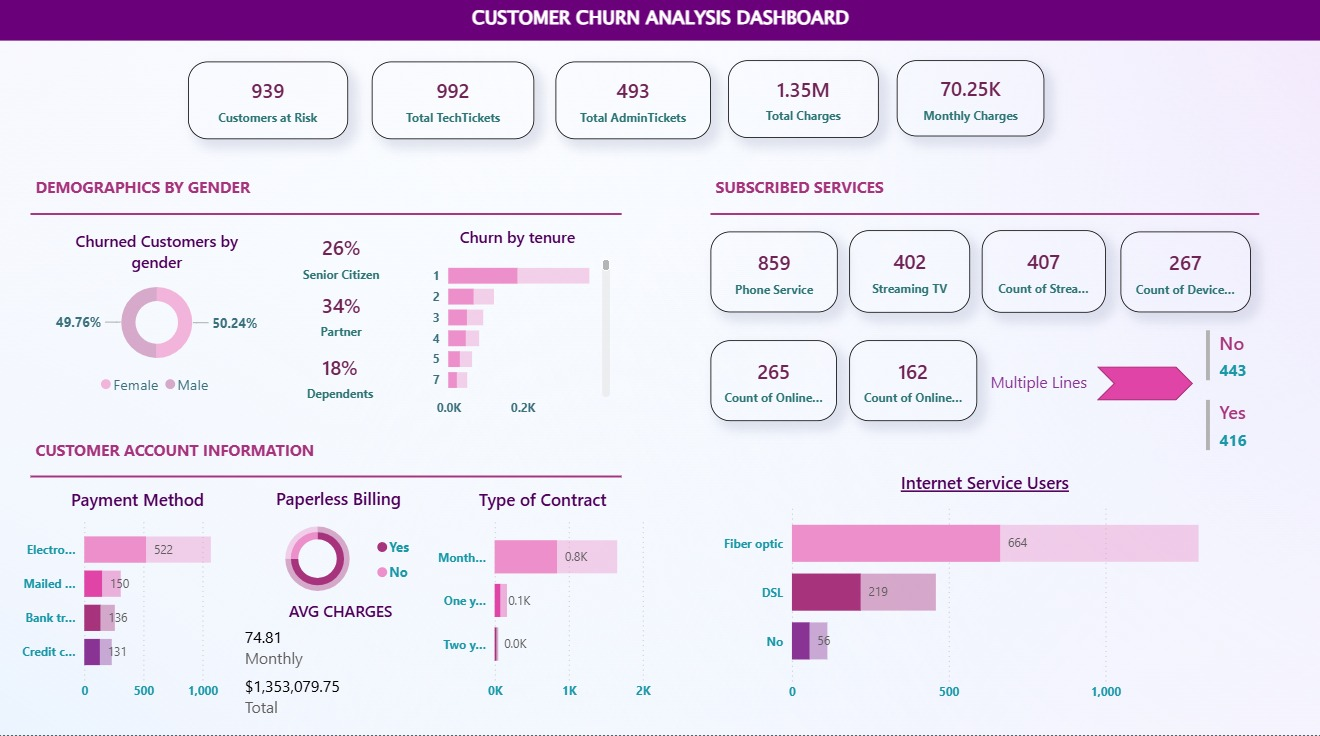

The dashboard page shown, as its layout file describes it:
{"tool":"powerbi","page":{"name":"Page 1","canvas":[1350,750],"ordinal":0},"visuals":[{"type":"card","fields":{"Values":["CountNonNull(01 Churn-Dataset.customerID)"]},"box":[193.3,63.9,162.8,79.1],"z":0},{"type":"textbox","box":[0,0,1350.2,42],"z":1000},{"type":"card","fields":{"Values":["Sum(01 Churn-Dataset.numTechTickets)"]},"box":[380.4,63.9,165.9,79.1],"z":2000},{"type":"card","fields":{"Values":["Sum(01 Churn-Dataset.numAdminTickets)"]},"box":[567.6,63.9,158.3,79.1],"z":3000},{"type":"card","fields":{"Values":["Sum(01 Churn-Dataset.TotalCharges)"]},"box":[744.1,62.4,153.7,79.1],"z":4000},{"type":"card","fields":{"Values":["Sum(01 Churn-Dataset.MonthlyCharges)"]},"box":[916,62.4,150.6,77.6],"z":5000},{"type":"donutChart","title":"Churned Customers by gender","fields":{"Category":["01 Churn-Dataset.gender"],"Y":["CountNonNull(01 Churn-Dataset.Churn)"]},"box":[48.4,222.9,226.7,196.2],"z":6000},{"type":"card","fields":{"Values":["Churn.Senior Citizen"]},"box":[275.1,219.1,149,87.9],"z":7000},{"type":"card","fields":{"Values":["Churn.% of dependents"]},"box":[273.9,340.1,149,89.2],"z":8000},{"type":"card","fields":{"Values":["Churn.% of partner"]},"box":[275.1,277.7,149,87.9],"z":9000},{"type":"textbox","box":[33.1,175.8,550.3,43.3],"z":10000},{"type":"clusteredBarChart","title":"Churn by tenure","fields":{"Category":["Churn.tenure"],"Y":["CountNonNull(Churn.Churn)"]},"box":[422.9,219.1,212.7,222.9],"z":11000},{"type":"shape","box":[33.1,184.7,602.5,68.8],"z":12000},{"type":"shape","box":[726.1,184.7,559.2,68.8],"z":13000},{"type":"card","fields":{"Values":["CountNonNull(Churn.PhoneService)"]},"box":[726.1,236.9,129.9,82.8],"z":14000},{"type":"card","fields":{"Values":["CountNonNull(Churn.StreamingTV)"]},"box":[867.4,235.7,123.6,84.1],"z":15000},{"type":"card","fields":{"Values":["CountNonNull(Churn.StreamingMovies)"]},"box":[1002.5,235.7,126.1,84.1],"z":16000},{"type":"card","fields":{"Values":["CountNonNull(Churn.DeviceProtection)"]},"box":[1143.9,236.9,132.5,82.8],"z":17000},{"type":"card","fields":{"Values":["CountNonNull(Churn.OnlineBackup)"]},"box":[726,348,129,82.5],"z":18000},{"type":"card","fields":{"Values":["CountNonNull(Churn.OnlineSecurity)"]},"box":[867,348,130.5,82.5],"z":19000},{"type":"multiRowCard","fields":{"Values":["Churn.MultipleLines","Churn.customerID"]},"box":[1224.1,331.2,126.1,155.4],"z":20000},{"type":"shape","box":[1119.7,374.5,98.1,34.4],"z":21000},{"type":"textbox","box":[1006.3,374.5,122.3,31.8],"z":22000},{"type":"clusteredBarChart","title":"Internet Service Users","fields":{"Category":["Churn.InternetService"],"Y":["CountNonNull(Churn.InternetService)"]},"box":[726.1,468.8,559.2,262.4],"z":23000},{"type":"textbox","box":[726.1,175.8,550.3,43.3],"z":24000},{"type":"textbox","box":[33.1,443.3,550.3,43.3],"z":25000},{"type":"shape","box":[33.1,452.2,602.5,68.8],"z":26000},{"type":"clusteredBarChart","title":"Payment Method","fields":{"Category":["Churn.PaymentMethod"],"Y":["CountNonNull(Churn.PaymentMethod)"]},"box":[0,486.9,284.6,243.5],"z":27000},{"type":"donutChart","title":"Paperless Billing","fields":{"Category":["Churn.PaperlessBilling"],"Y":["CountNonNull(Churn.PaperlessBilling)"]},"box":[254.1,485.4,187.2,143],"z":28000},{"type":"multiRowCard","title":"AVG CHARGES","fields":{"Values":["Avg(Churn.MonthlyCharges)","Sum(Churn.TotalCharges)"]},"box":[238.9,599.5,219.1,150.6],"z":29000},{"type":"clusteredBarChart","title":"Type of Contract ","fields":{"Category":["Churn.Contract"],"Y":["CountNonNull(Churn.Contract)"]},"box":[424.5,486.9,261.7,243.5],"z":30000}]}

Visuals, with their boxes in screenshot pixels (x1, y1, x2, y2), scaled from the page's 1350x750 canvas onto the 1320x736 screenshot:
card - CountNonNull(01 Churn-Dataset.customerID): select_region(189, 63, 348, 140)
textbox: select_region(0, 0, 1319, 41)
card - Sum(01 Churn-Dataset.numTechTickets): select_region(372, 63, 534, 140)
card - Sum(01 Churn-Dataset.numAdminTickets): select_region(555, 63, 710, 140)
card - Sum(01 Churn-Dataset.TotalCharges): select_region(728, 61, 878, 139)
card - Sum(01 Churn-Dataset.MonthlyCharges): select_region(896, 61, 1043, 137)
"Churned Customers by gender" donutChart: select_region(47, 219, 269, 411)
card - Churn.Senior Citizen: select_region(269, 215, 415, 301)
card - Churn.% of dependents: select_region(268, 334, 414, 421)
card - Churn.% of partner: select_region(269, 273, 415, 359)
textbox: select_region(32, 173, 570, 215)
"Churn by tenure" clusteredBarChart: select_region(414, 215, 621, 434)
shape: select_region(32, 181, 621, 249)
shape: select_region(710, 181, 1257, 249)
card - CountNonNull(Churn.PhoneService): select_region(710, 232, 837, 314)
card - CountNonNull(Churn.StreamingTV): select_region(848, 231, 969, 314)
card - CountNonNull(Churn.StreamingMovies): select_region(980, 231, 1104, 314)
card - CountNonNull(Churn.DeviceProtection): select_region(1118, 232, 1248, 314)
card - CountNonNull(Churn.OnlineBackup): select_region(710, 342, 836, 422)
card - CountNonNull(Churn.OnlineSecurity): select_region(848, 342, 975, 422)
multiRowCard - Churn.MultipleLines x Churn.customerID: select_region(1197, 325, 1319, 478)
shape: select_region(1095, 368, 1191, 401)
textbox: select_region(984, 368, 1104, 399)
"Internet Service Users" clusteredBarChart: select_region(710, 460, 1257, 718)
textbox: select_region(710, 173, 1248, 215)
textbox: select_region(32, 435, 570, 478)
shape: select_region(32, 444, 621, 511)
"Payment Method" clusteredBarChart: select_region(0, 478, 278, 717)
"Paperless Billing" donutChart: select_region(248, 476, 431, 617)
"AVG CHARGES" multiRowCard: select_region(234, 588, 448, 735)
"Type of Contract " clusteredBarChart: select_region(415, 478, 671, 717)
